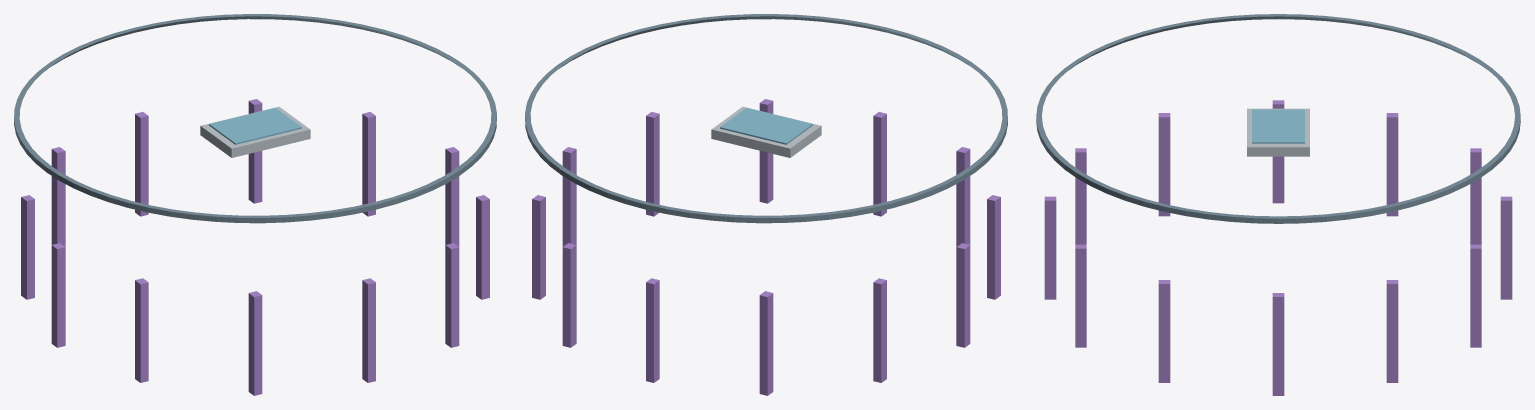
File: 07_L81_TransparentFaultInjectionChamber.glb
3 views of the same model, side by side, from view 1: azimuth 30°, elevation 25°; view 2: azimuth 150°, elevation 25°; view 3: azimuth 270°, elevation 25° (orthographic).
Visible parts, largest first — view 1: TransparentFaultInjectionChamber_Node_0000, TransparentFaultInjectionChamber_Node_0014, TransparentFaultInjectionChamber_Node_0013, TransparentFaultInjectionChamber_Node_0003, TransparentFaultInjectionChamber_Node_0005, TransparentFaultInjectionChamber_Node_0007, TransparentFaultInjectionChamber_Node_0006, TransparentFaultInjectionChamber_Node_0008, TransparentFaultInjectionChamber_Node_0002, TransparentFaultInjectionChamber_Node_0004, TransparentFaultInjectionChamber_Node_0010, TransparentFaultInjectionChamber_Node_0012 (+3 smaller); view 2: TransparentFaultInjectionChamber_Node_0000, TransparentFaultInjectionChamber_Node_0014, TransparentFaultInjectionChamber_Node_0013, TransparentFaultInjectionChamber_Node_0007, TransparentFaultInjectionChamber_Node_0009, TransparentFaultInjectionChamber_Node_0011, TransparentFaultInjectionChamber_Node_0008, TransparentFaultInjectionChamber_Node_0006, TransparentFaultInjectionChamber_Node_0010, TransparentFaultInjectionChamber_Node_0012, TransparentFaultInjectionChamber_Node_0004, TransparentFaultInjectionChamber_Node_0002 (+3 smaller); view 3: TransparentFaultInjectionChamber_Node_0000, TransparentFaultInjectionChamber_Node_0014, TransparentFaultInjectionChamber_Node_0004, TransparentFaultInjectionChamber_Node_0010, TransparentFaultInjectionChamber_Node_0001, TransparentFaultInjectionChamber_Node_0002, TransparentFaultInjectionChamber_Node_0012, TransparentFaultInjectionChamber_Node_0013, TransparentFaultInjectionChamber_Node_0006, TransparentFaultInjectionChamber_Node_0008, TransparentFaultInjectionChamber_Node_0003, TransparentFaultInjectionChamber_Node_0011 (+3 smaller).
Part boxes in pixels (bbox=[...]): TransparentFaultInjectionChamber_Node_0000: bbox=[14, 14, 496, 223]; TransparentFaultInjectionChamber_Node_0014: bbox=[209, 108, 301, 144]; TransparentFaultInjectionChamber_Node_0013: bbox=[200, 106, 310, 157]; TransparentFaultInjectionChamber_Node_0003: bbox=[445, 243, 459, 347]; TransparentFaultInjectionChamber_Node_0005: bbox=[248, 291, 262, 395]; TransparentFaultInjectionChamber_Node_0007: bbox=[51, 243, 65, 347]; TransparentFaultInjectionChamber_Node_0006: bbox=[135, 278, 148, 382]; TransparentFaultInjectionChamber_Node_0008: bbox=[21, 195, 34, 299]; TransparentFaultInjectionChamber_Node_0002: bbox=[476, 195, 489, 299]; TransparentFaultInjectionChamber_Node_0004: bbox=[362, 278, 375, 382]; TransparentFaultInjectionChamber_Node_0010: bbox=[135, 112, 148, 216]; TransparentFaultInjectionChamber_Node_0012: bbox=[362, 111, 375, 216]; TransparentFaultInjectionChamber_Node_0000: bbox=[525, 14, 1007, 223]; TransparentFaultInjectionChamber_Node_0014: bbox=[720, 108, 812, 144]; TransparentFaultInjectionChamber_Node_0013: bbox=[711, 106, 821, 157]; TransparentFaultInjectionChamber_Node_0007: bbox=[956, 243, 970, 347]; TransparentFaultInjectionChamber_Node_0009: bbox=[759, 291, 773, 395]; TransparentFaultInjectionChamber_Node_0011: bbox=[562, 243, 576, 347]; TransparentFaultInjectionChamber_Node_0008: bbox=[873, 278, 886, 382]; TransparentFaultInjectionChamber_Node_0006: bbox=[987, 195, 1000, 299]; TransparentFaultInjectionChamber_Node_0010: bbox=[646, 278, 659, 382]; TransparentFaultInjectionChamber_Node_0012: bbox=[532, 195, 545, 299]; TransparentFaultInjectionChamber_Node_0004: bbox=[873, 112, 886, 216]; TransparentFaultInjectionChamber_Node_0002: bbox=[646, 111, 659, 216]; TransparentFaultInjectionChamber_Node_0000: bbox=[1036, 14, 1520, 223]; TransparentFaultInjectionChamber_Node_0014: bbox=[1252, 109, 1304, 143]; TransparentFaultInjectionChamber_Node_0004: bbox=[1044, 196, 1056, 299]; TransparentFaultInjectionChamber_Node_0010: bbox=[1500, 196, 1512, 299]; TransparentFaultInjectionChamber_Node_0001: bbox=[1272, 293, 1284, 395]; TransparentFaultInjectionChamber_Node_0002: bbox=[1158, 280, 1170, 382]; TransparentFaultInjectionChamber_Node_0012: bbox=[1386, 280, 1398, 382]; TransparentFaultInjectionChamber_Node_0013: bbox=[1247, 108, 1309, 156]; TransparentFaultInjectionChamber_Node_0006: bbox=[1158, 113, 1170, 216]; TransparentFaultInjectionChamber_Node_0008: bbox=[1386, 113, 1398, 216]; TransparentFaultInjectionChamber_Node_0003: bbox=[1075, 244, 1086, 347]; TransparentFaultInjectionChamber_Node_0011: bbox=[1470, 244, 1481, 347].
Size of the model in its own units: 5.1 by 2.11 by 5.1.
